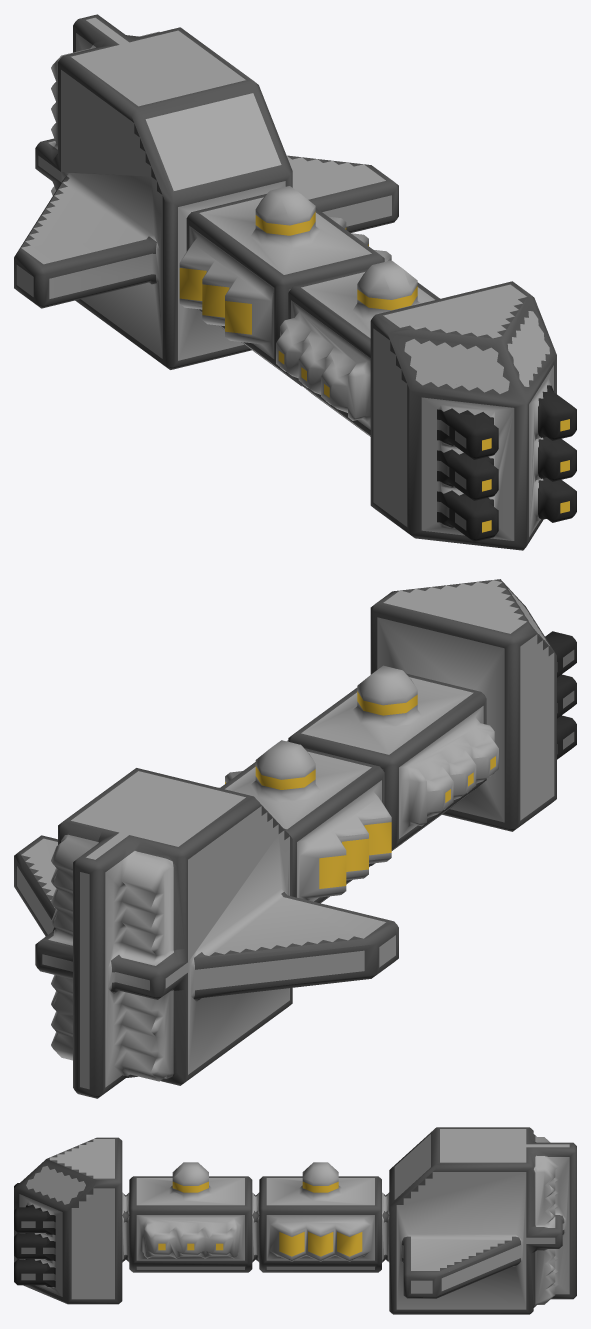
Rendered from mechyrdia-4-civitas-class.obj.
3 views of the same model, one above another, from view 1: azimuth 30°, elevation 25°; view 2: azimuth 150°, elevation 25°; view 3: azimuth 270°, elevation 25° (orthographic). The views are drawn at different scales.
Size of the model in its own units: 37 by 23 by 78.
1 material, 1 textured.
